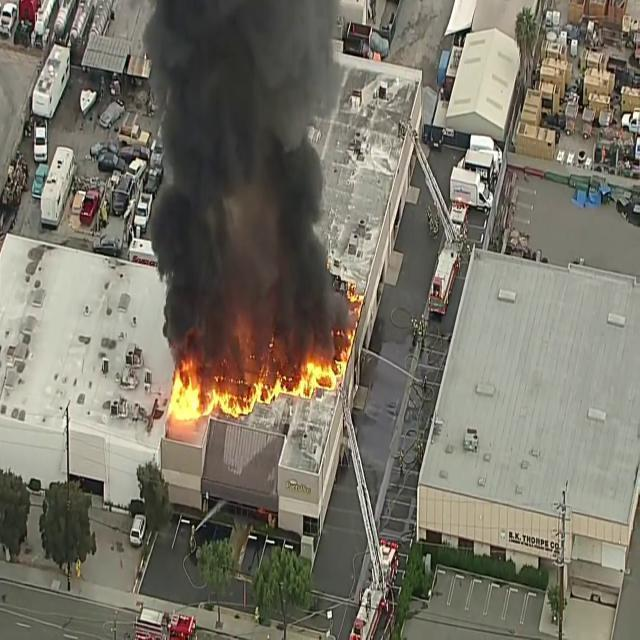Fire: (204, 372, 289, 422), (297, 366, 341, 409), (175, 374, 209, 422)
Smoke: (168, 14, 306, 162), (257, 134, 346, 356), (159, 177, 224, 343)
